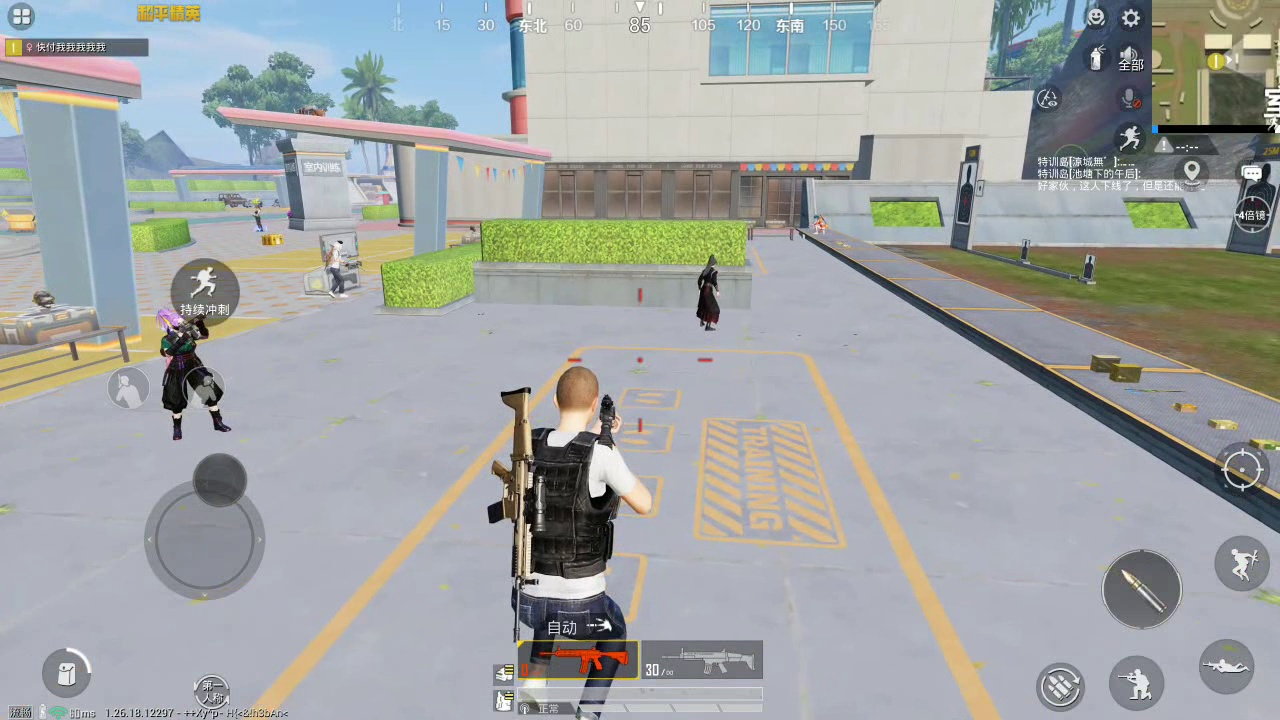enemy: (156, 313, 233, 443), (698, 254, 722, 335), (324, 238, 351, 299), (809, 209, 826, 235), (250, 204, 264, 229)
